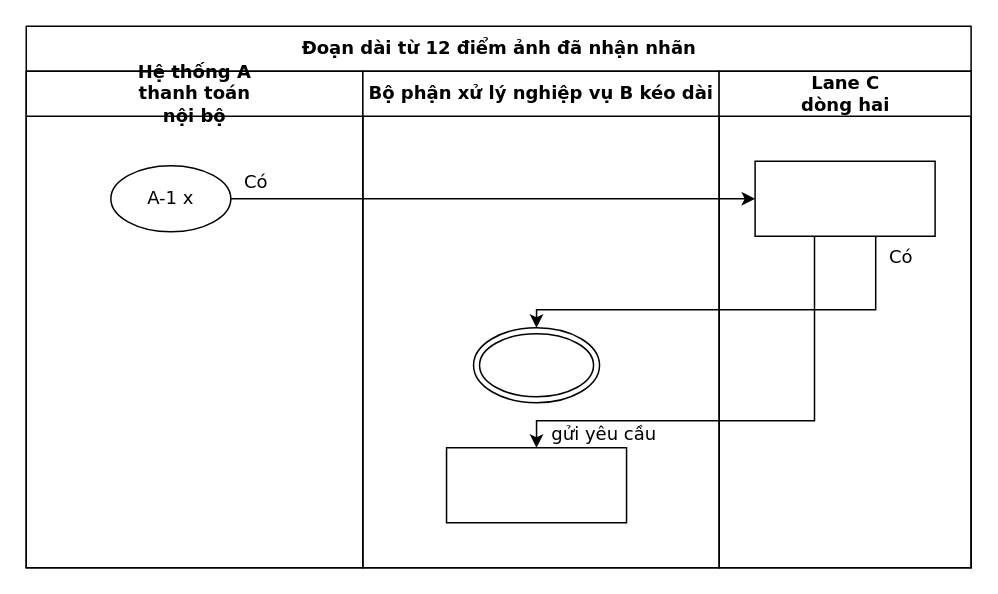
Some shapes in this 998 by 594 pixel diagram are drawn without their labels. Here are the shapes that lost their labels. From the top down, the centre of each, then its label:
(844,198): C-2 x
(536,364): B-3 x
(536,484): B-4 x
